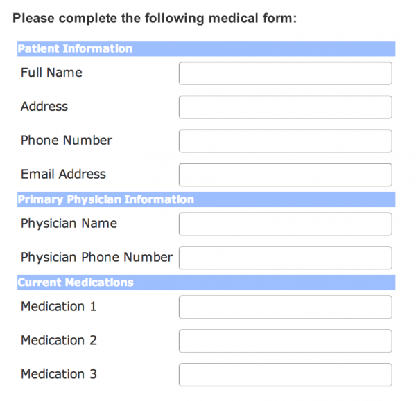textbox: (175, 209, 397, 241), (175, 292, 397, 323), (175, 325, 397, 356), (176, 92, 397, 123), (177, 126, 397, 157), (176, 59, 397, 89), (175, 245, 396, 273), (176, 160, 396, 188), (176, 361, 395, 389)
